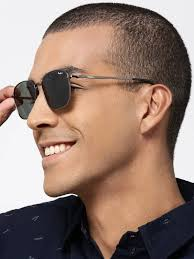g.y: (41, 68, 140, 111)
